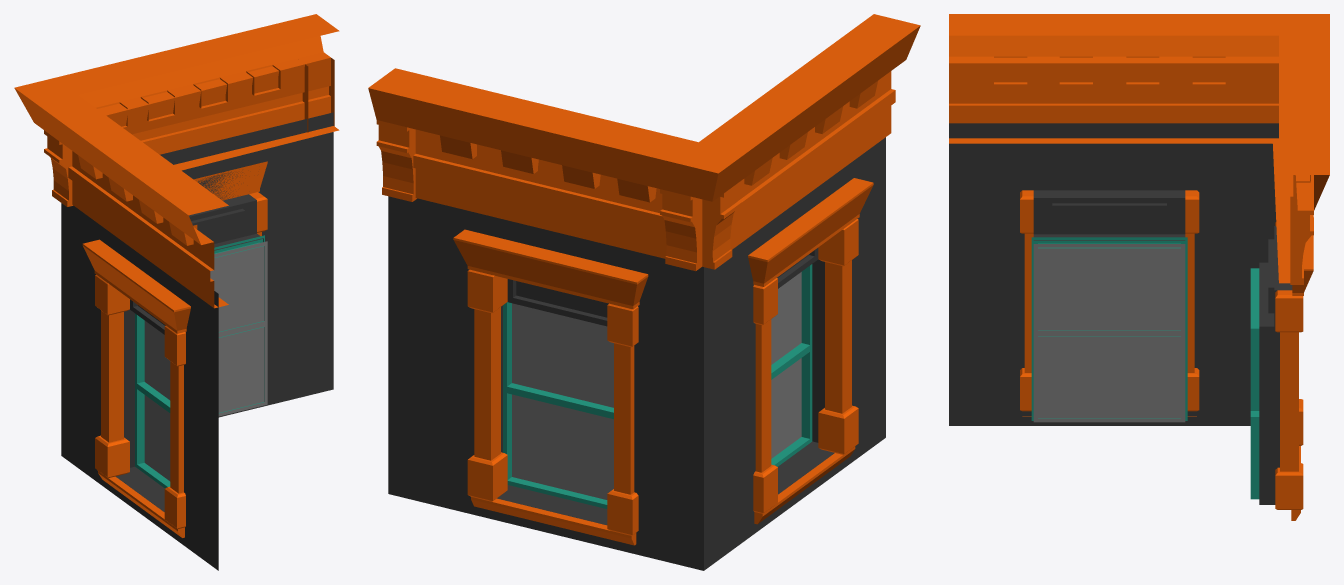
Rendered from SM_T_Corner_Build_03.fbx.
3 renders of one model, left to right at view 1: azimuth 30°, elevation 25°; view 2: azimuth 150°, elevation 25°; view 3: azimuth 270°, elevation 25°, orthographic. The views are drawn at different scales.
Parts seen in each view (by area): view 1: SM_T_Corner_Build_03, Box213, Box209, Box211, Box210, Box197, Box212, Box193; view 2: SM_T_Corner_Build_03, Box213, Box197, Box193, Box210, Box194, Box211, Box209, Box199, Box212; view 3: SM_T_Corner_Build_03, Box213, Box193, Box209, Box210, Box197.
Part boxes in pixels (x1,y1,x2,y2): SM_T_Corner_Build_03: (44,58,334,570); Box213: (14,14,339,308); Box209: (95,274,129,477); Box211: (82,239,190,333); Box210: (164,325,185,528); Box197: (193,161,267,200); Box212: (98,471,184,537); Box193: (249,192,267,235); SM_T_Corner_Build_03: (376,81,885,570); Box213: (368,14,920,258); Box197: (453,229,648,309); Box193: (467,269,507,501); Box210: (818,219,858,454); Box194: (607,303,638,535); Box211: (748,178,873,286); Box209: (753,278,777,513); Box199: (471,497,636,545); Box212: (754,446,855,524); SM_T_Corner_Build_03: (949,56,1313,504); Box213: (949,14,1329,283); Box193: (1275,290,1303,509); Box209: (1185,190,1199,411); Box210: (1020,190,1033,411); Box197: (1292,215,1313,295).
Size of the model in its own units: 594 by 682 by 594.
